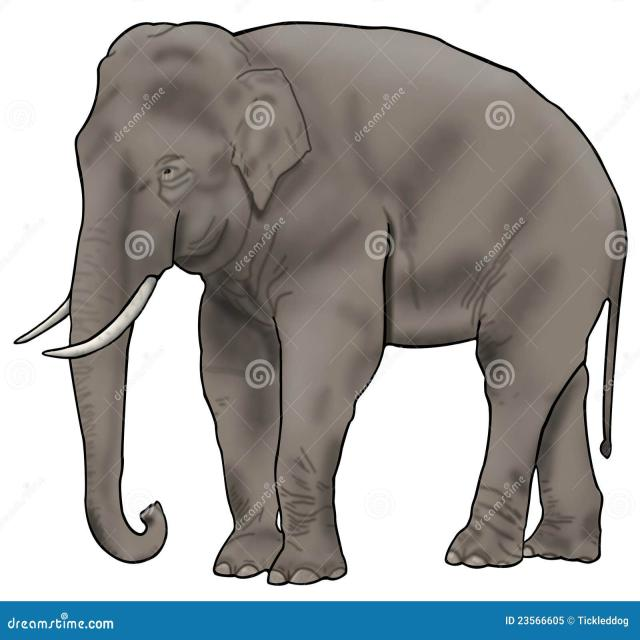Elephant: (21, 27, 636, 576)
